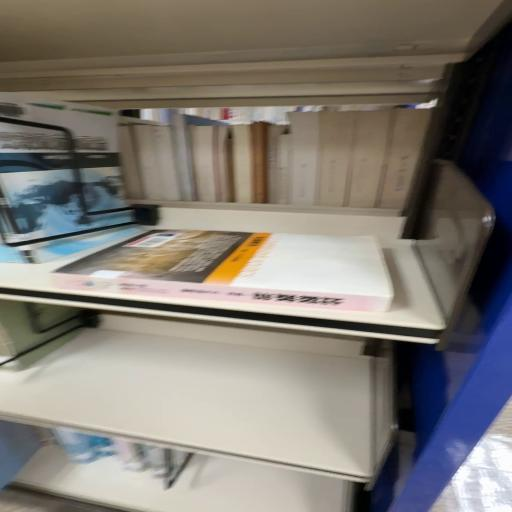flat: (54, 230, 393, 312)
